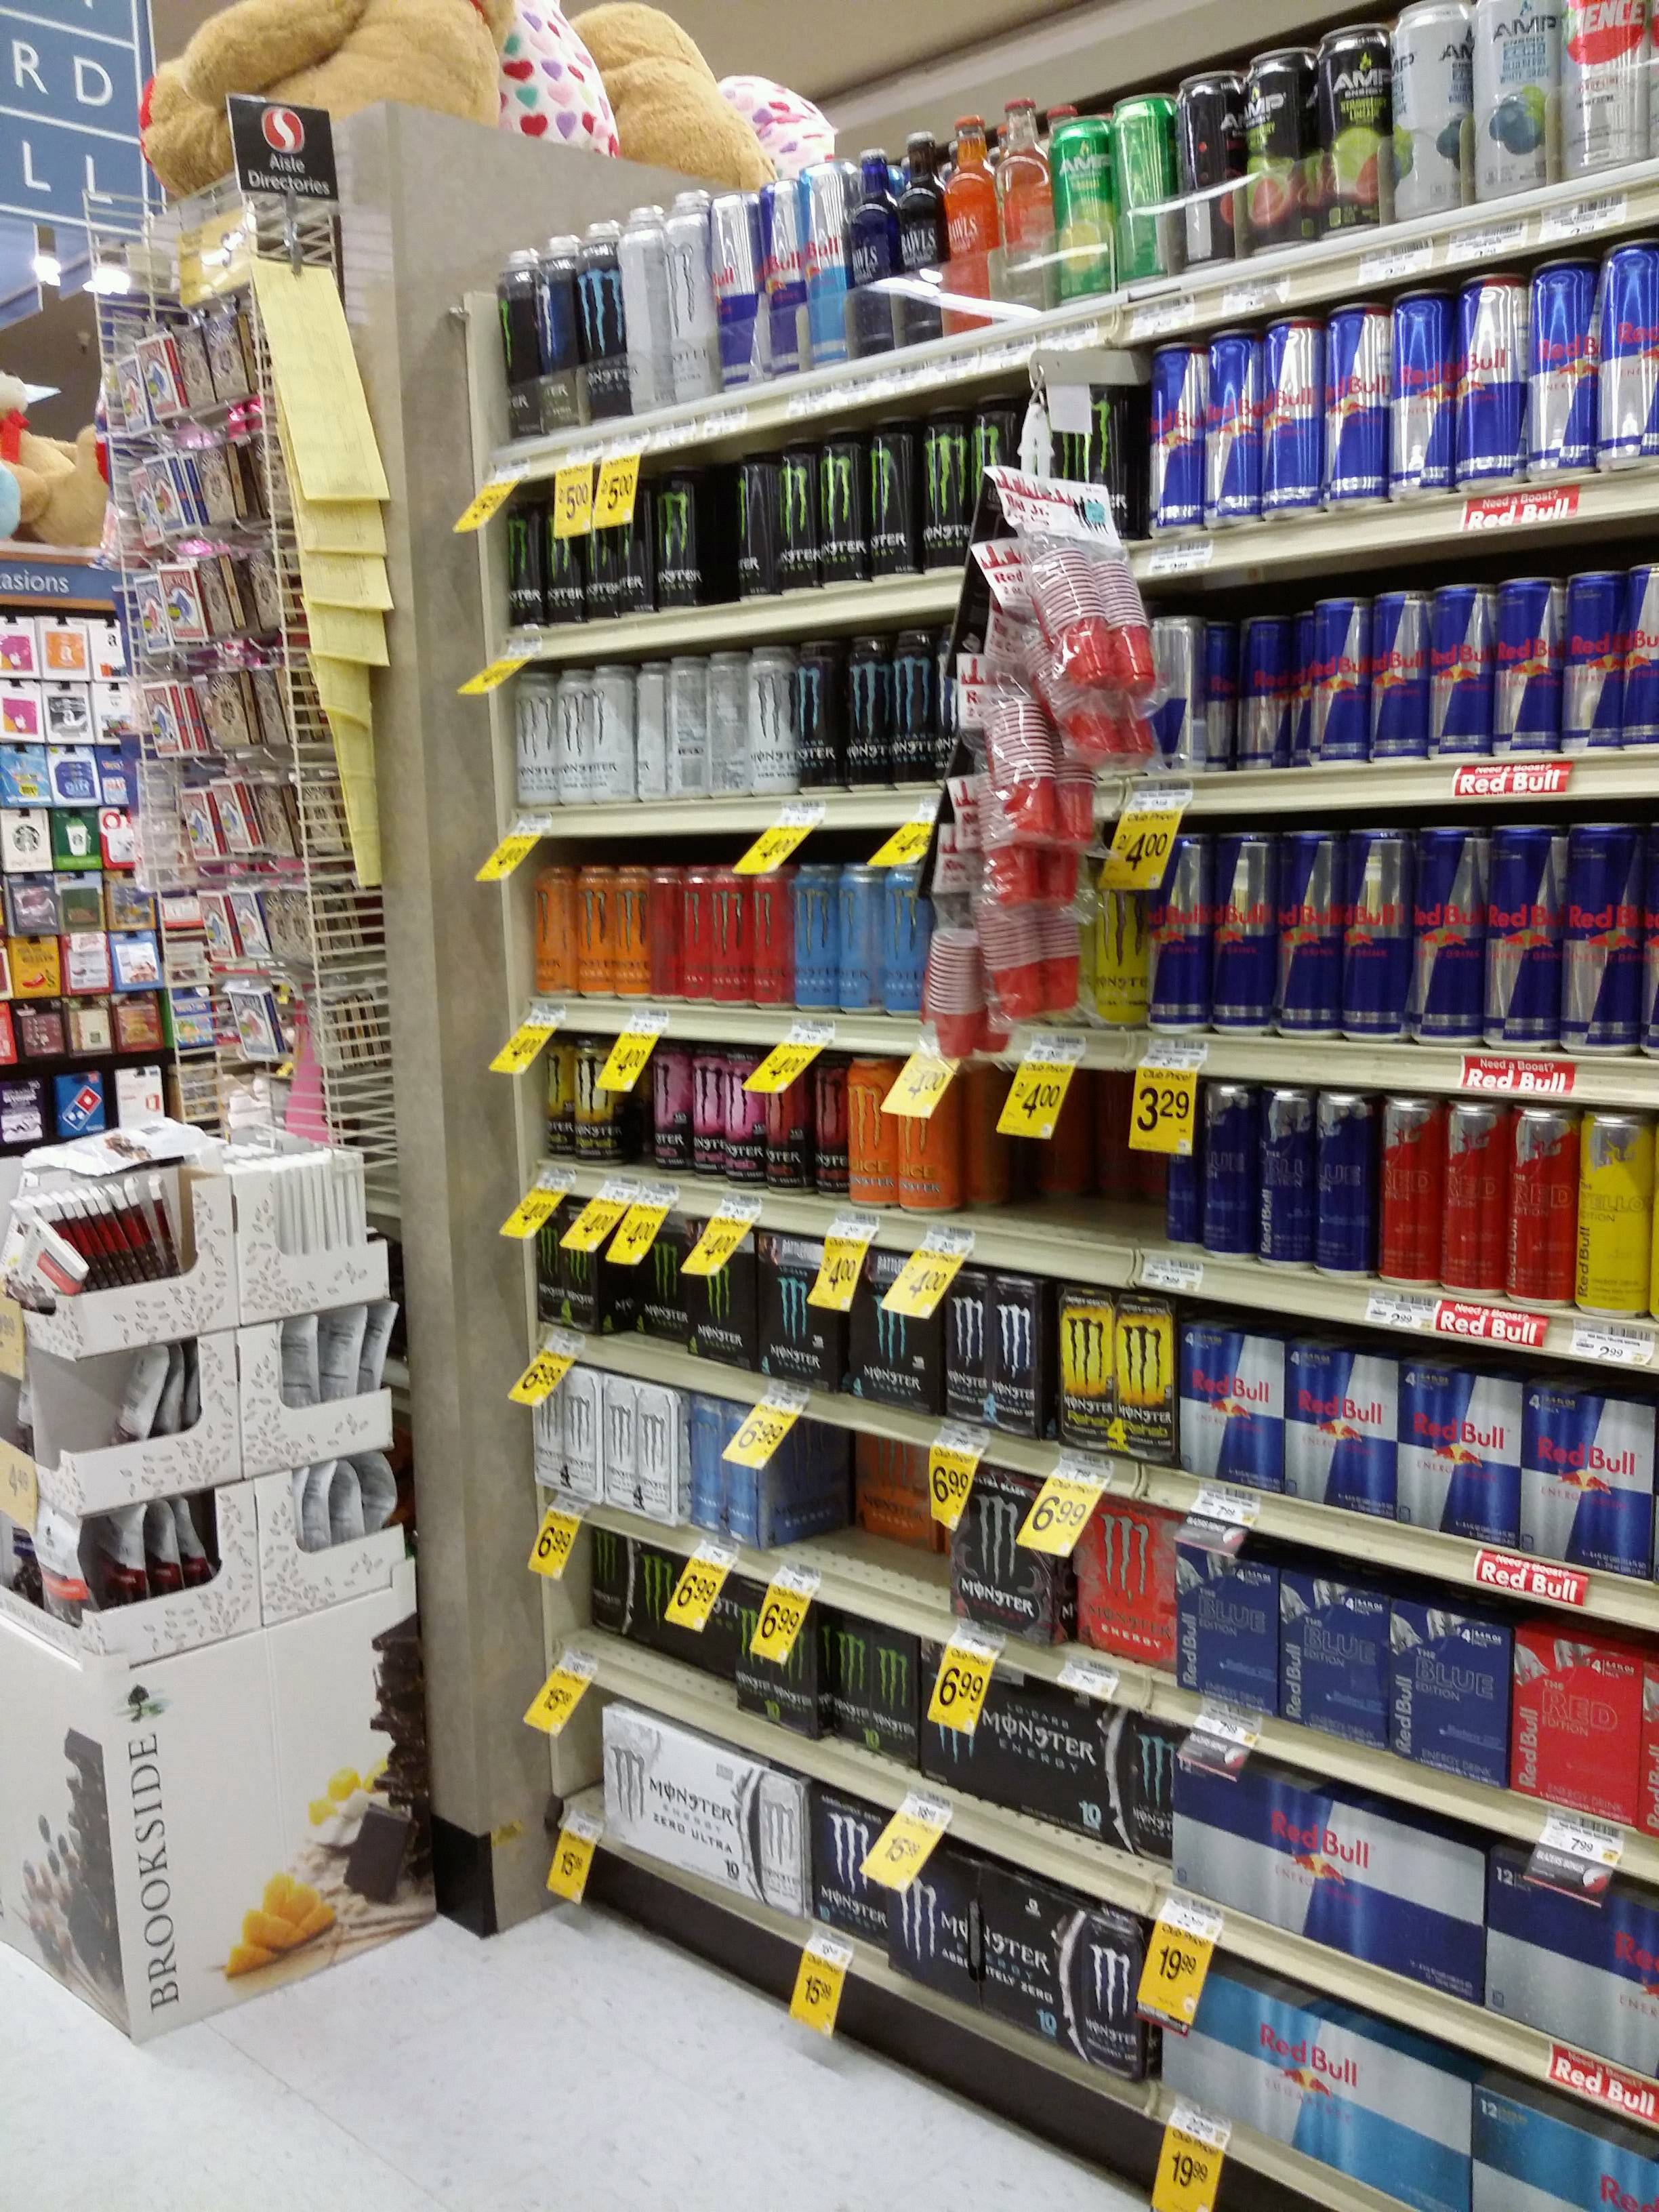Misplacement: (755, 1418, 965, 1616)
Out-of-stock: (936, 1061, 1178, 1259)
